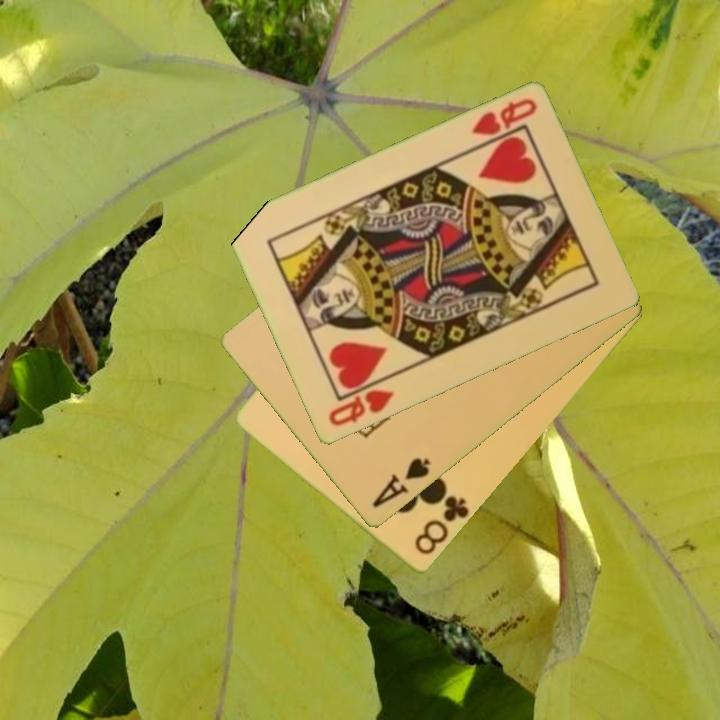8c: (411, 487, 472, 559)
As: (368, 454, 434, 512)
Qh: (324, 375, 397, 430), (468, 95, 540, 140)
